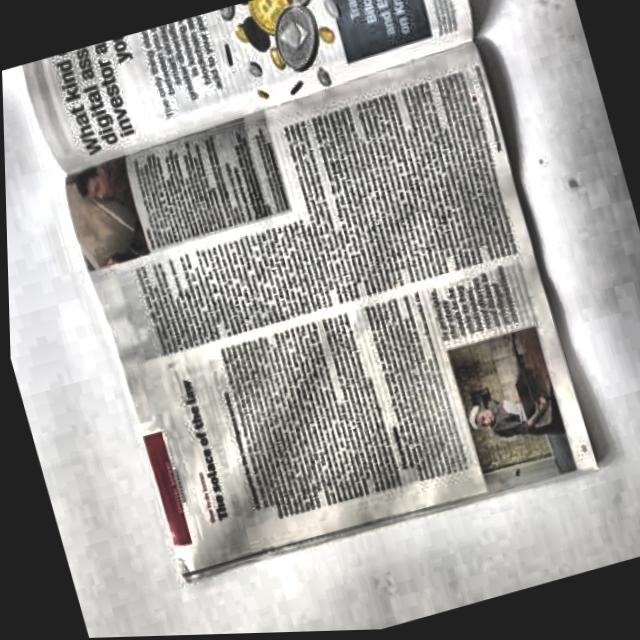Paper: (9, 0, 626, 612)
